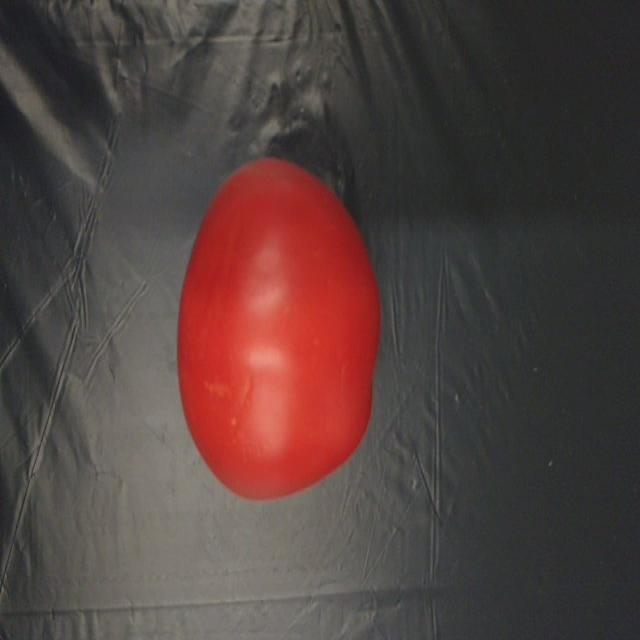kirmizi: (170, 150, 391, 512)
